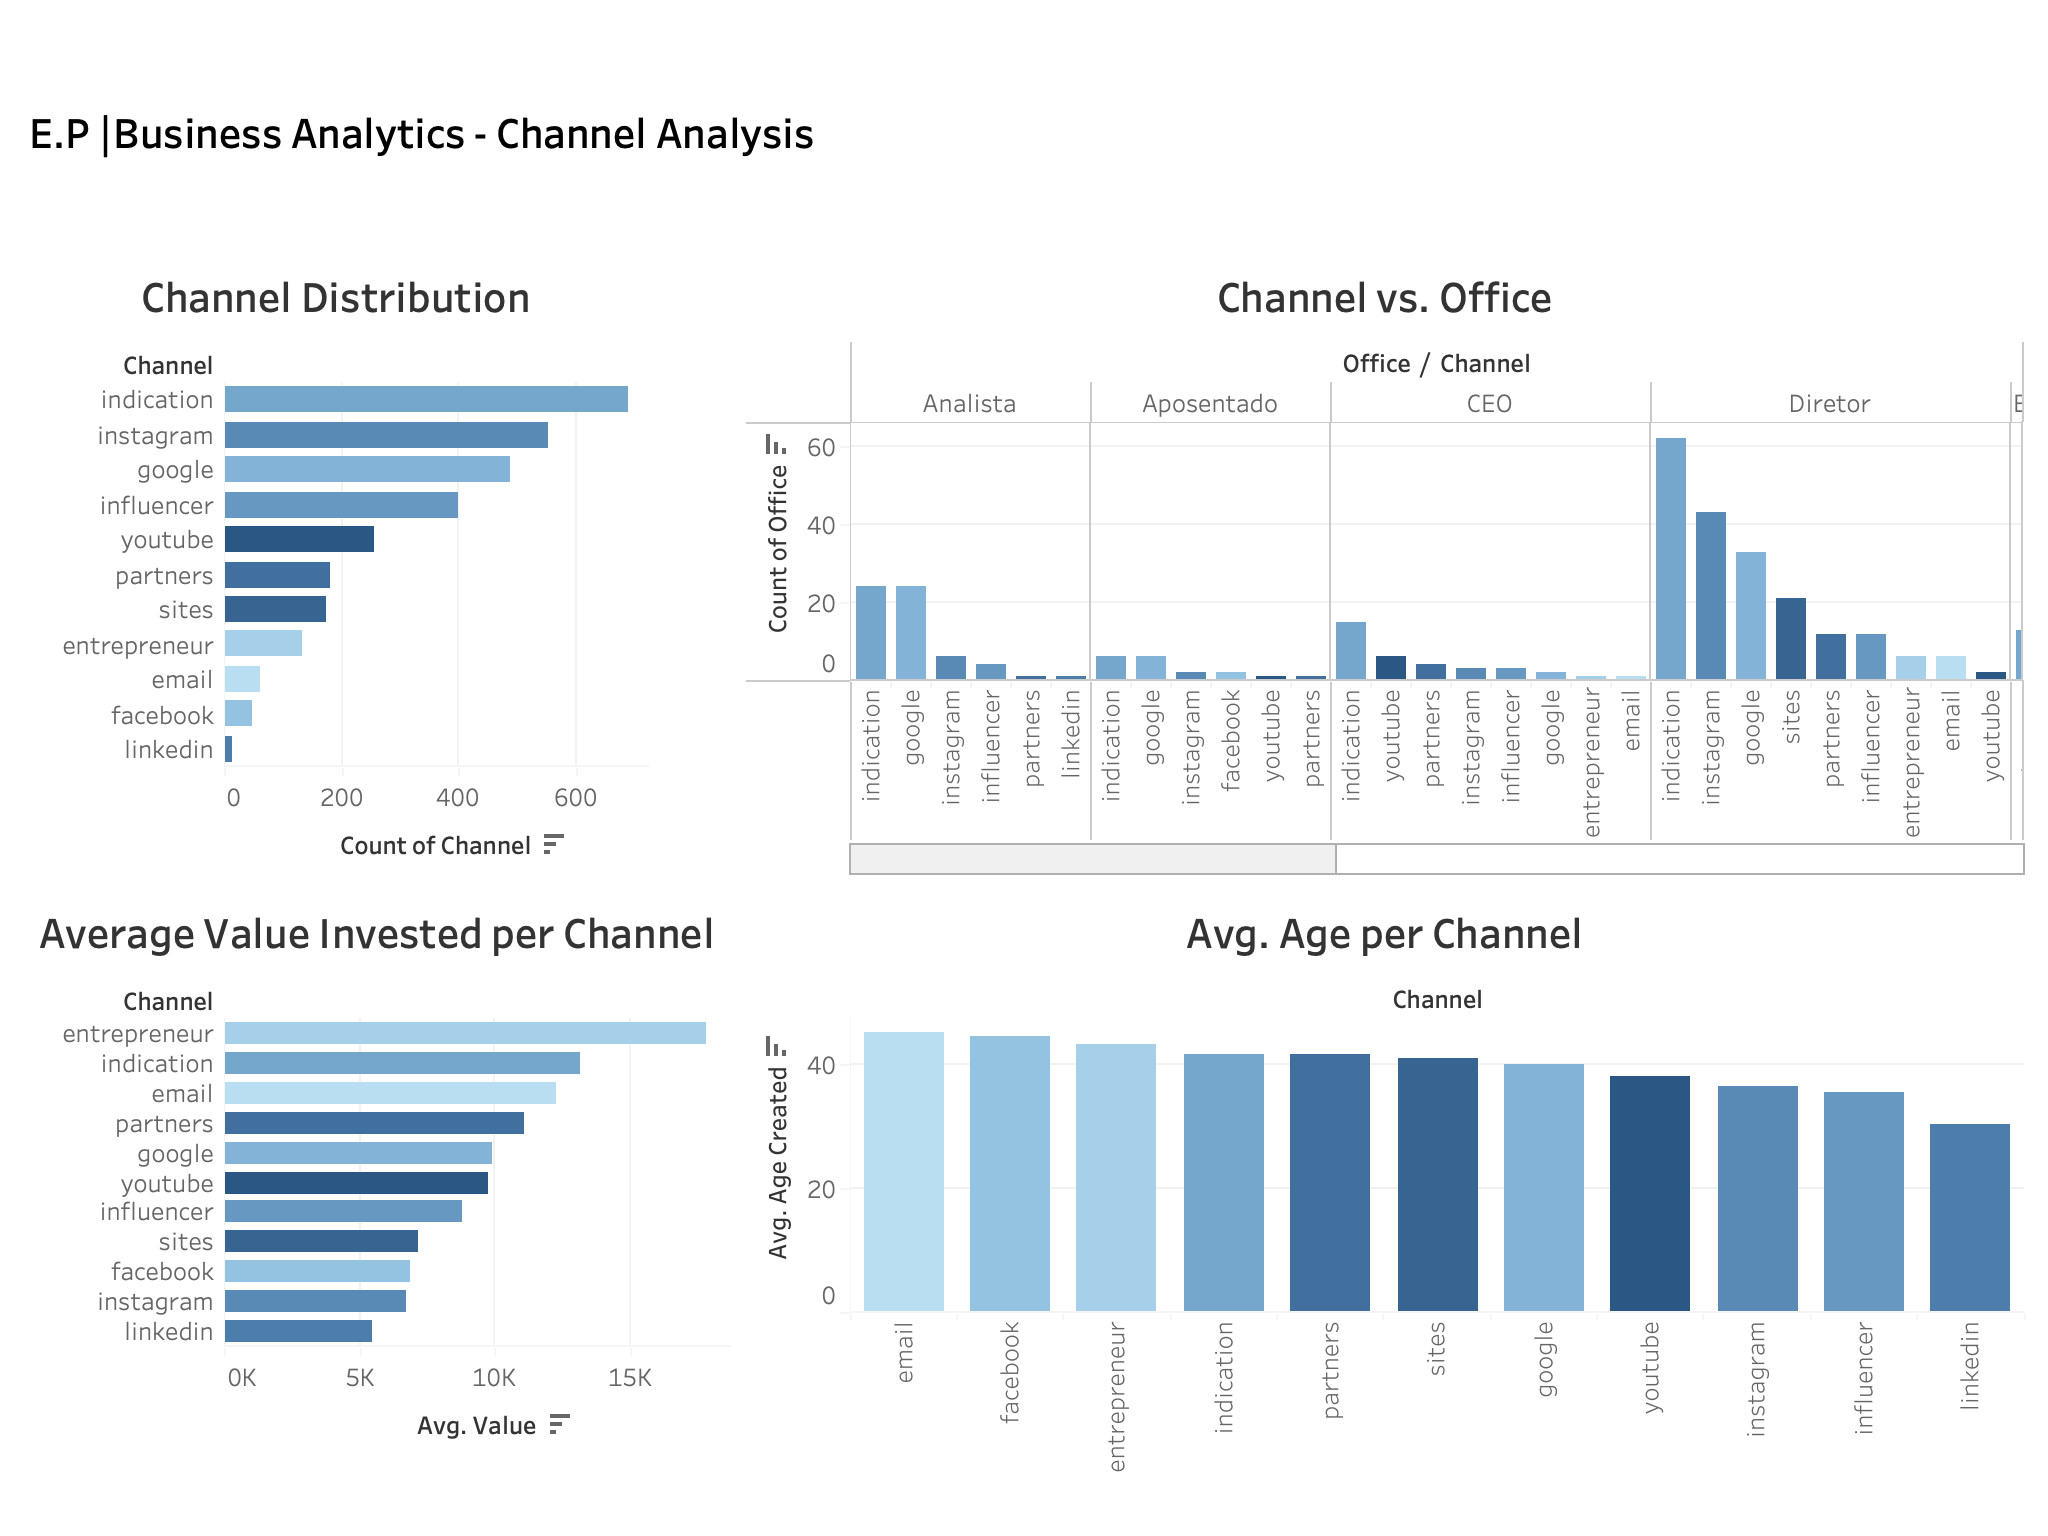

Layout of this report page (visuals, bound fields, positions):
{"tool":"tableau","page":{"name":"channel_analysis","canvas":[1024,768],"ordinal":0},"visuals":[{"type":"text","box":[8,8,1008,116]},{"type":"worksheet","title":"channel_dist","mark":"Automatic","rows":["channel"],"cols":["channel"],"box":[8,124,361.4,318]},{"type":"worksheet","title":"channel_vs_office","mark":"Automatic","rows":["office"],"cols":["office","channel"],"box":[369.4,124,646.6,318]},{"type":"worksheet","title":"channel_vs_value","mark":"Automatic","rows":["channel"],"cols":["value"],"box":[8,442,361,318]},{"type":"worksheet","title":"channel_vs_age","mark":"Automatic","rows":["age_created"],"cols":["channel"],"box":[369,442,647,318]}]}

Visuals, with their boxes in screenshot pixels (x1, y1, x2, y2), scaled from the page's 1024x768 canvas onto the 2048x1536 screenshot:
text: bbox=[16, 16, 2032, 248]
"channel_dist" worksheet: bbox=[16, 248, 739, 884]
"channel_vs_office" worksheet: bbox=[739, 248, 2032, 884]
"channel_vs_value" worksheet: bbox=[16, 884, 738, 1520]
"channel_vs_age" worksheet: bbox=[738, 884, 2032, 1520]
